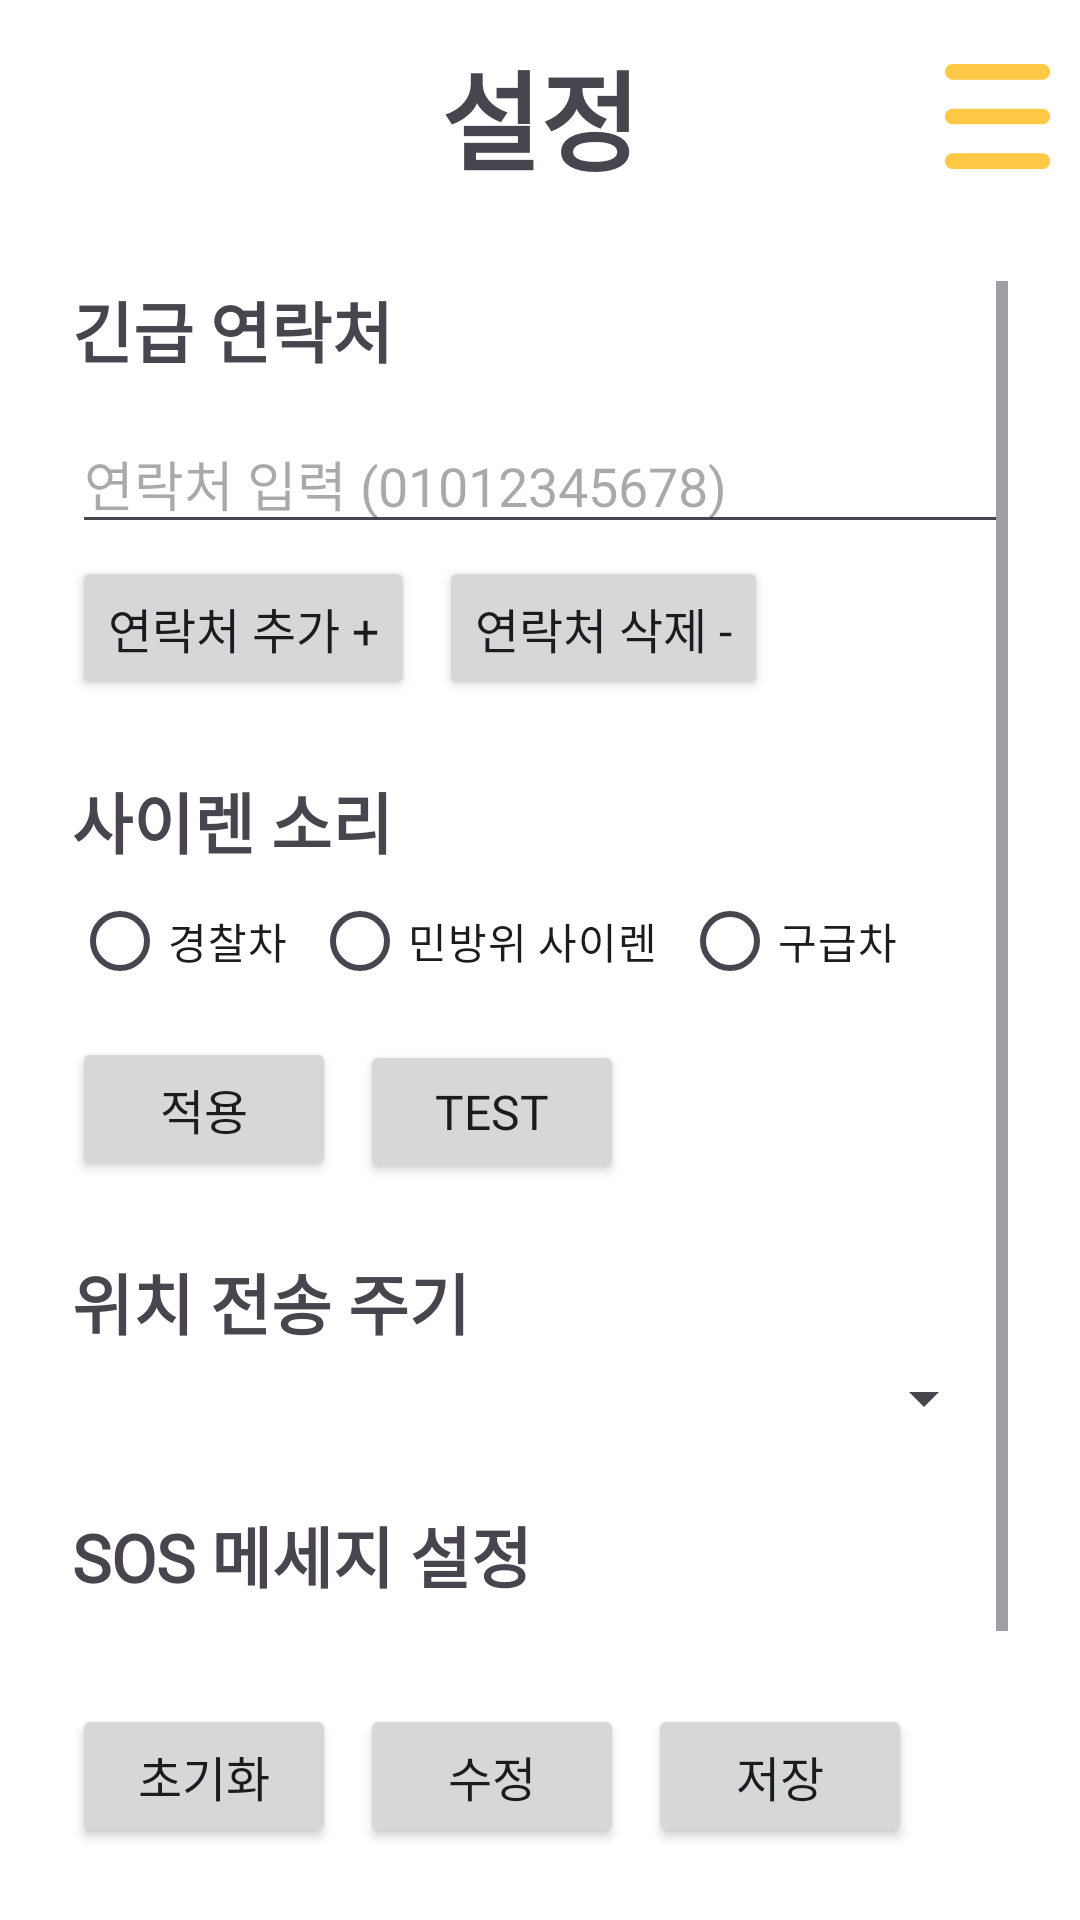

Icon bounding boxes for this 1080 × 1920 phone screenshot, format (x1, y1, x2, y2):
menu: (945, 64, 1050, 169)
